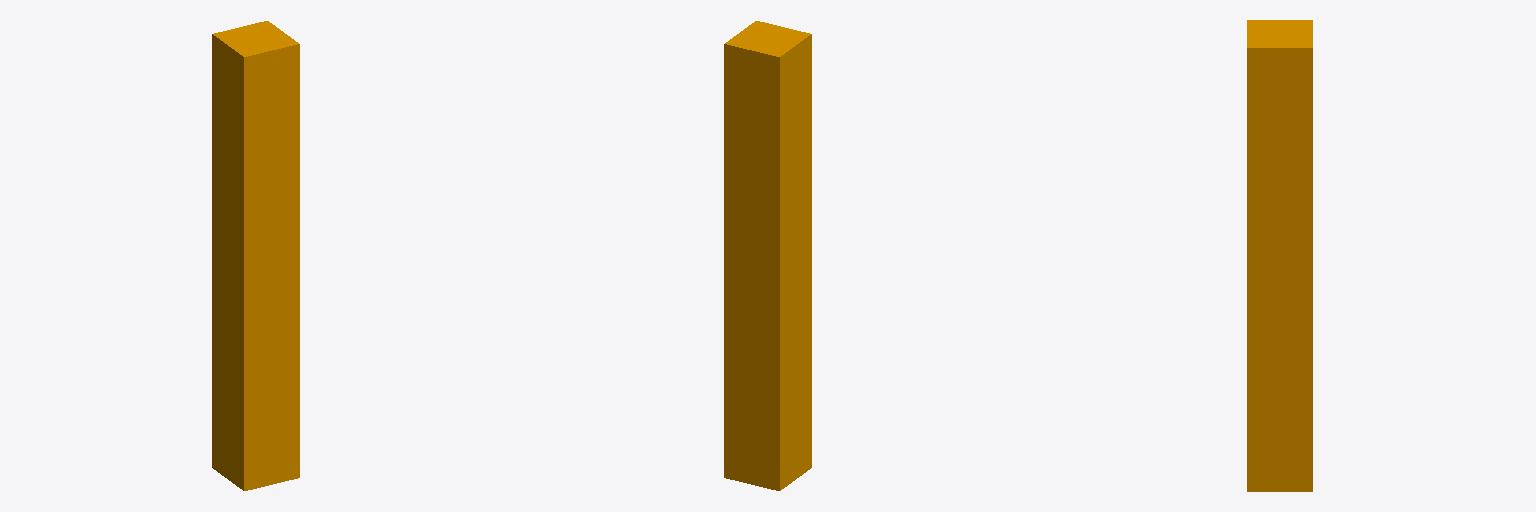
The robot description file, URDF, robot "box":
<?xml version="1.0"?>
<robot name="box">

  <link name="box">
    <collision>
      <origin xyz= "0.0 0.0 0.0" rpy="0 0 0"/>
      <geometry>
        <box size= "0.04 0.04 0.30" />
      </geometry>
      <surface>
        <contact>
          <collide_without_contact>false</collide_without_contact>
        </contact>
      </surface>
    </collision>

    <visual>
      <origin xyz= "0.0 0.0 0.0" rpy="0 0 0"/>
      <geometry>
        <box size= "0.04 0.04 0.30" />
      </geometry>
    </visual>

    <inertial>
      <origin xyz= "0.0 0.0 0.0" rpy="0 0 0"/>
      <mass value= "0.1" />
      <inertia
        ixx="0.15" ixy="0.0"  ixz="0.0"
        iyy="0.15" iyz="0.0"
        izz="0.15" />
    </inertial>
  </link>

  <gazebo reference="box">
    <material>Gazebo/Red</material>
    <mu1>0.0</mu1>
    <mu2>0.0</mu2>
    <selfCollide>false</selfCollide>
  </gazebo>

</robot>

--- Facts derived from the render (not from the file) ---
Views: 3 orthographic renders of the robot side by side, from view 1: azimuth 30°, elevation 25°; view 2: azimuth 150°, elevation 25°; view 3: azimuth 270°, elevation 25°.
Model box with 1 links and 0 joints (none), rooted at box, posed every joint at zero.
Visible links, largest first — view 1: box; view 2: box; view 3: box.
Link boxes in pixels (x1,y1,x2,y2): box: [212, 21, 299, 490]; box: [724, 21, 811, 490]; box: [1247, 20, 1312, 491].
Bounding box of the posed robot: 0.04 × 0.04 × 0.3 m (x, y, z).
Geometry: primitives only (box / cylinder / sphere), no mesh files.